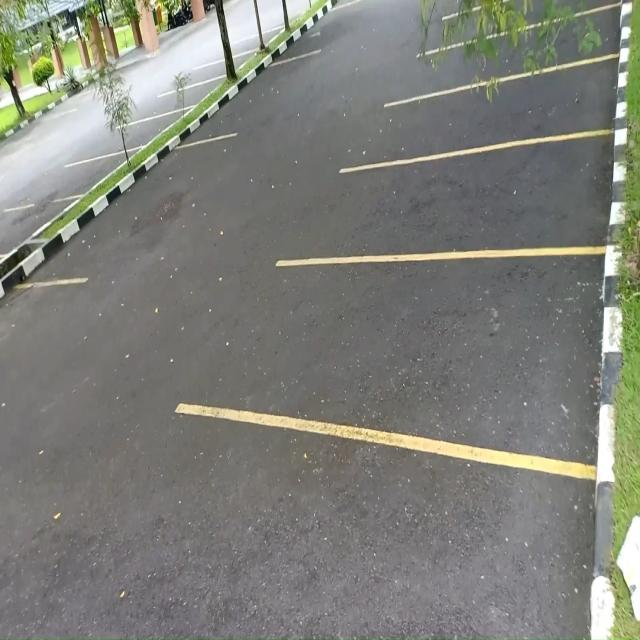empty: (289, 252, 602, 448), (354, 146, 610, 252), (437, 68, 615, 147), (104, 114, 172, 152), (52, 154, 113, 196), (166, 84, 208, 109), (204, 57, 246, 80)
